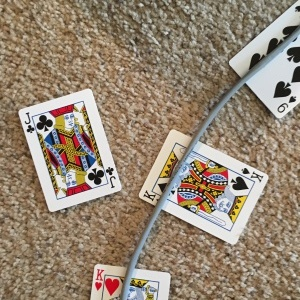card: (138, 129, 270, 246), (17, 88, 122, 212)
